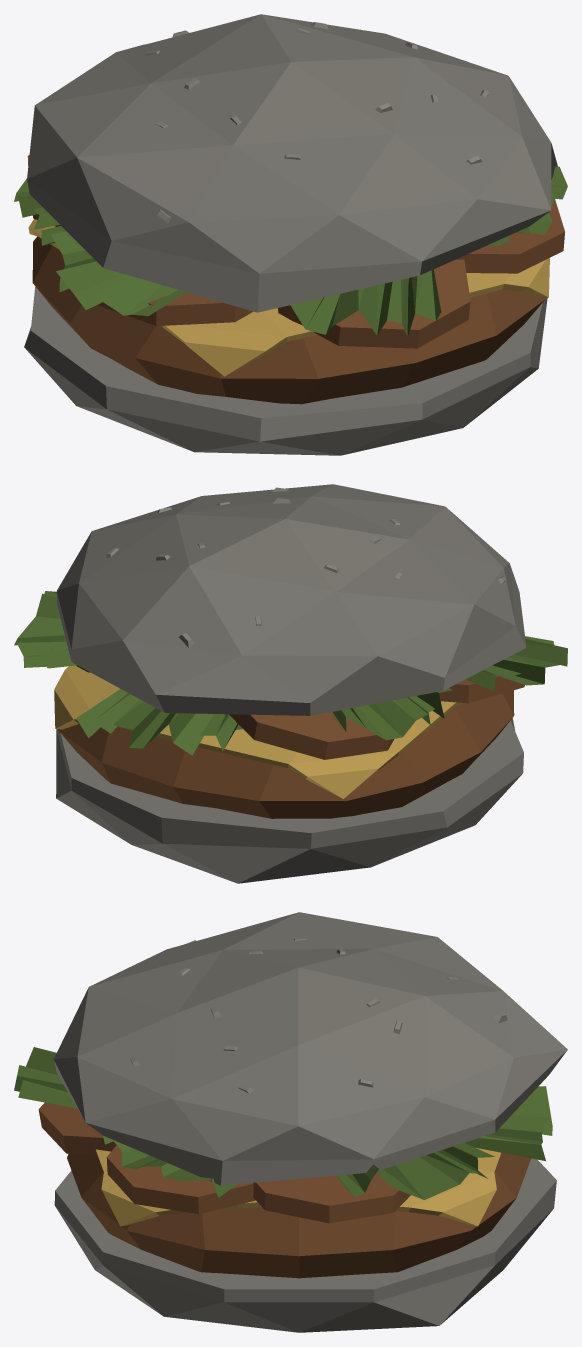
File: cc0-burger-lod1.glb
The picture shows the model from 3 angles, top to bottom: view 1: azimuth 30°, elevation 25°; view 2: azimuth 150°, elevation 25°; view 3: azimuth 270°, elevation 25°; orthographic projection. The views are drawn at different scales.
Parts seen in each view (by area): view 1: part_0; view 2: part_0; view 3: part_0.
Boxes of the visible parts, <box> form: part_0: <box>14,14,567,455</box>; part_0: <box>14,484,567,883</box>; part_0: <box>14,912,567,1332</box>.
Bounding box in the file's own units: 1.65 × 1.07 × 1.7.
